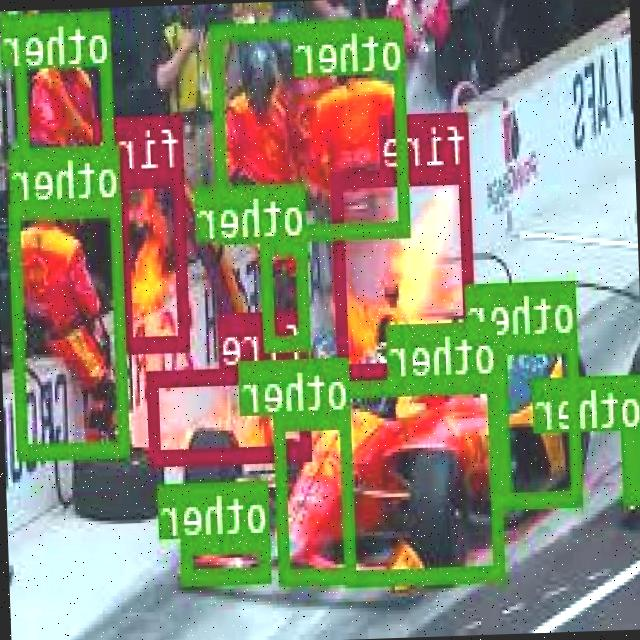fire: (334, 164, 479, 378), (150, 362, 314, 462), (118, 168, 192, 347)
